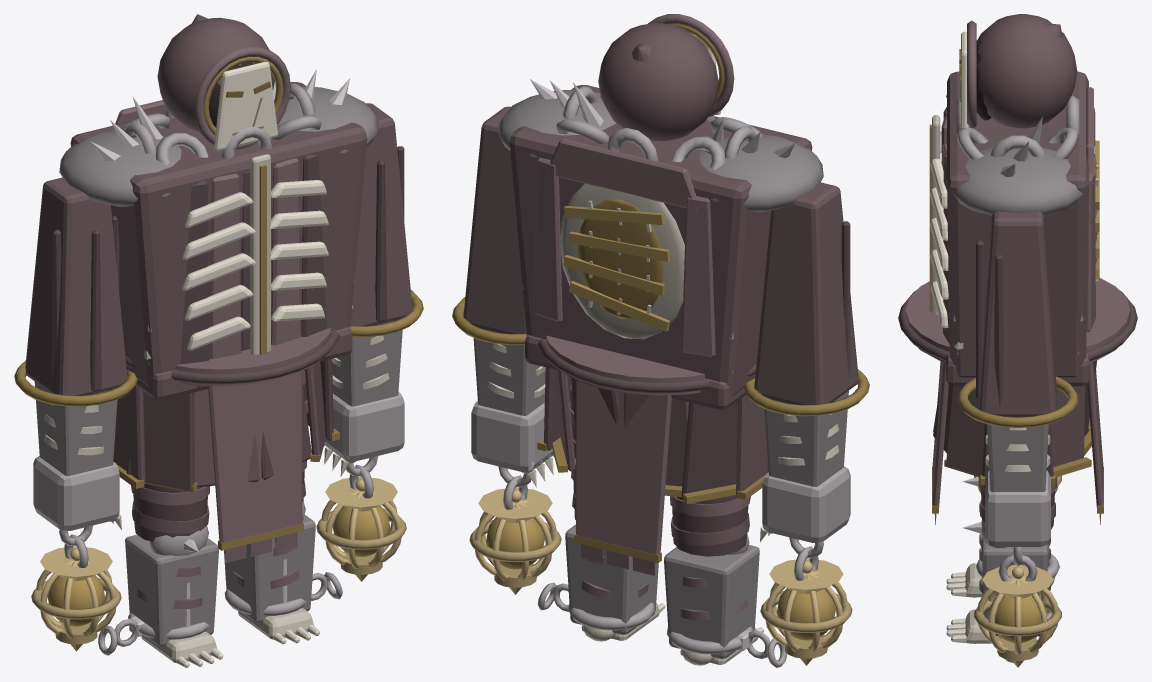
The model's file is penitent.glb.
3 renders of one model, left to right at view 1: azimuth 30°, elevation 25°; view 2: azimuth 150°, elevation 25°; view 3: azimuth 270°, elevation 25°, orthographic. The views are drawn at different scales.
Visible parts, largest first — view 1: rag.010, rag.014, rag*1.009, rag.013, iron.001, rag.011, iron.005, iron*1.024, rag*0.008, iron.007, iron, iron*1.021 (+55 smaller); view 2: rag.010, rag.014, rag*1.013, rag.011, rag.013, iron.001, bone*0.6, rag*1.021, iron.005, iron*1.024, glow*0.25, iron.007 (+41 smaller); view 3: rag.010, rag.013, rag.011, iron.004, iron*1.021, rag*1.008, iron.006, rag.005, glow*0.019, rag.006, rag*0.002, rag*1.013 (+36 smaller).
Part boxes in pixels (x1=…): rag.010: x1=70, y1=82, x2=367, y2=386; rag.014: x1=25, y1=177, x2=127, y2=395; rag*1.009: x1=208, y1=371, x2=302, y2=542; rag.013: x1=350, y1=103, x2=412, y2=326; iron.001: x1=125, y1=534, x2=218, y2=646; rag.011: x1=157, y1=17, x2=274, y2=131; iron.005: x1=59, y1=131, x2=181, y2=206; iron*1.024: x1=33, y1=456, x2=119, y2=530; rag*0.008: x1=126, y1=391, x2=194, y2=490; iron.007: x1=34, y1=381, x2=117, y2=475; iron: x1=224, y1=515, x2=315, y2=622; iron*1.021: x1=324, y1=392, x2=404, y2=461; rag.010: x1=509, y1=84, x2=812, y2=395; rag.014: x1=754, y1=182, x2=858, y2=404; rag*1.013: x1=576, y1=380, x2=671, y2=554; rag.011: x1=598, y1=23, x2=718, y2=141; rag.013: x1=463, y1=106, x2=526, y2=333; iron.001: x1=664, y1=545, x2=759, y2=658; bone*0.6: x1=560, y1=183, x2=684, y2=339; rag*1.021: x1=546, y1=139, x2=696, y2=209; iron.005: x1=699, y1=134, x2=823, y2=212; iron*1.024: x1=762, y1=466, x2=850, y2=542; glow*0.25: x1=577, y1=199, x2=663, y2=318; iron.007: x1=764, y1=390, x2=848, y2=486; rag.010: x1=947, y1=71, x2=1088, y2=377; rag.013: x1=979, y1=211, x2=1056, y2=417; rag.011: x1=976, y1=14, x2=1077, y2=128; iron.004: x1=946, y1=147, x2=1089, y2=215; iron*1.021: x1=985, y1=470, x2=1050, y2=546; rag*1.008: x1=905, y1=278, x2=1130, y2=362; iron.006: x1=987, y1=424, x2=1048, y2=491; rag.005: x1=946, y1=386, x2=984, y2=476; glow*0.019: x1=957, y1=376, x2=1078, y2=427; rag.006: x1=1051, y1=386, x2=1085, y2=467; rag*0.002: x1=898, y1=290, x2=1137, y2=361; rag*1.013: x1=1087, y1=362, x2=1103, y2=506.
Bounding box in the file's own units: 7.72 × 11.35 × 4.16.
